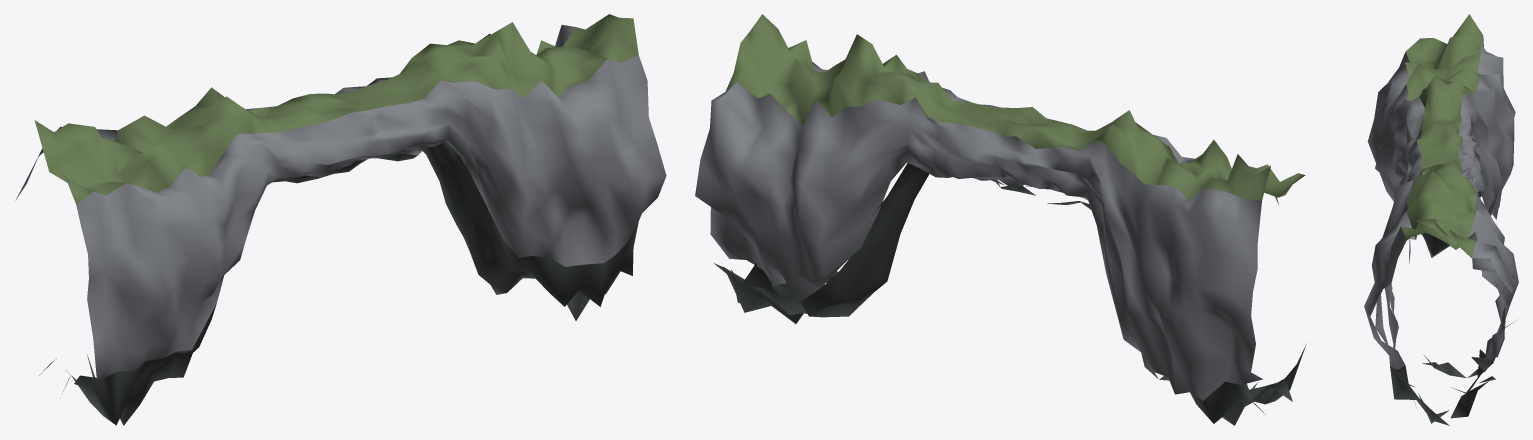
Rendered from arch.glb.
The picture shows the model from 3 angles, left to right: view 1: azimuth 30°, elevation 25°; view 2: azimuth 150°, elevation 25°; view 3: azimuth 270°, elevation 25°; orthographic projection. The views are drawn at different scales.
Visible parts, largest first — view 1: Arch; view 2: Arch; view 3: Arch.
Boxes of the visible parts, bbox=[...] form: Arch: bbox=[15, 14, 666, 425]; Arch: bbox=[695, 14, 1306, 425]; Arch: bbox=[1364, 14, 1518, 425].
Size of the model in its own units: 84.97 by 45.12 by 27.48.
